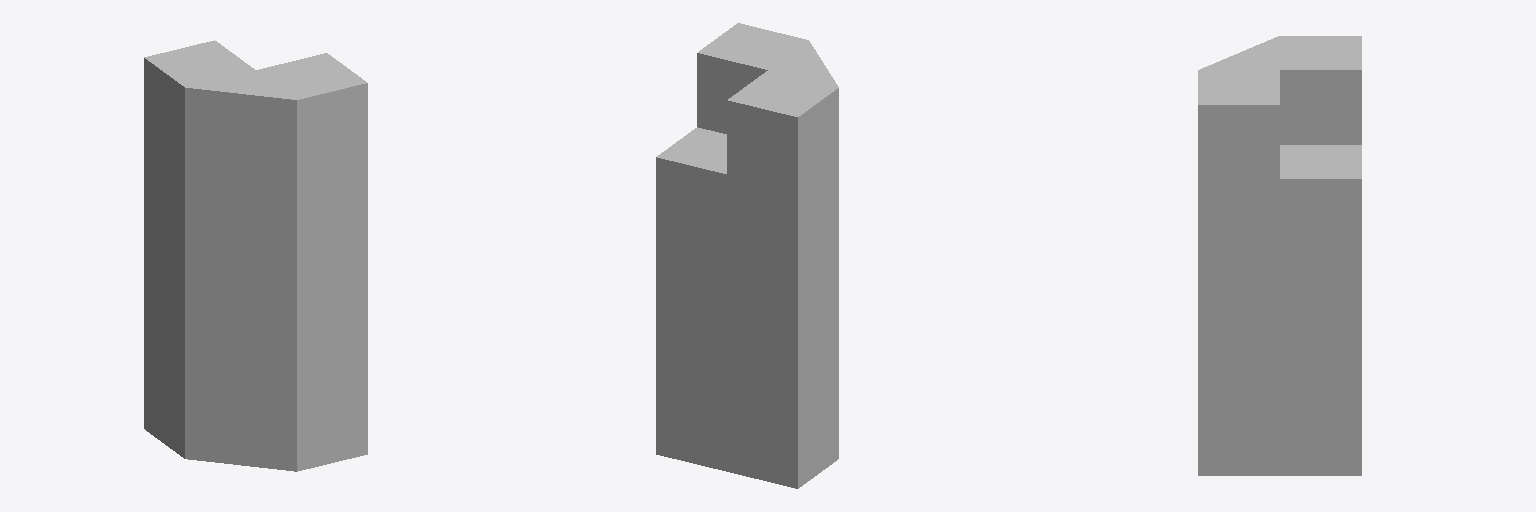
Rendered from Corner6.obj.
The picture shows the model from 3 angles: view 1: azimuth 30°, elevation 25°; view 2: azimuth 150°, elevation 25°; view 3: azimuth 270°, elevation 25°; orthographic projection.
Visible parts, largest first — view 1: Corner6; view 2: Corner6; view 3: Corner6.
Part boxes in pixels (left/top/right/bottom): Corner6: left=144, top=40, right=367, bottom=471; Corner6: left=656, top=23, right=838, bottom=488; Corner6: left=1198, top=36, right=1361, bottom=475.
Size of the model in its own units: 2 by 5 by 2.